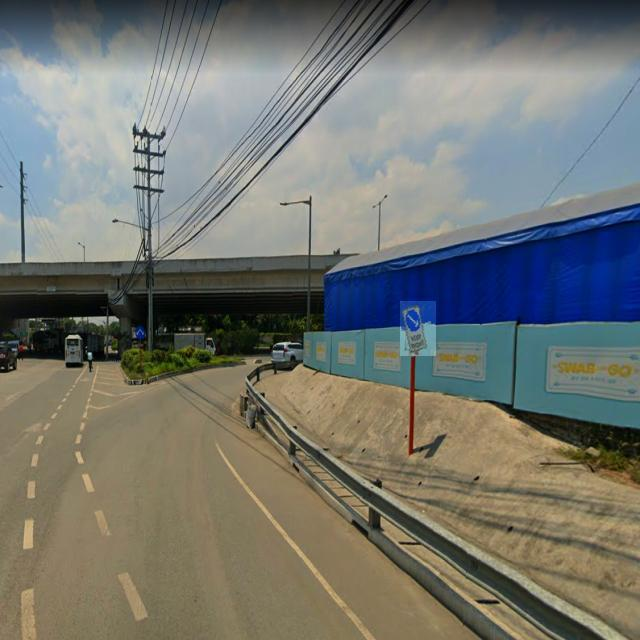keep right: (400, 301, 436, 356)
